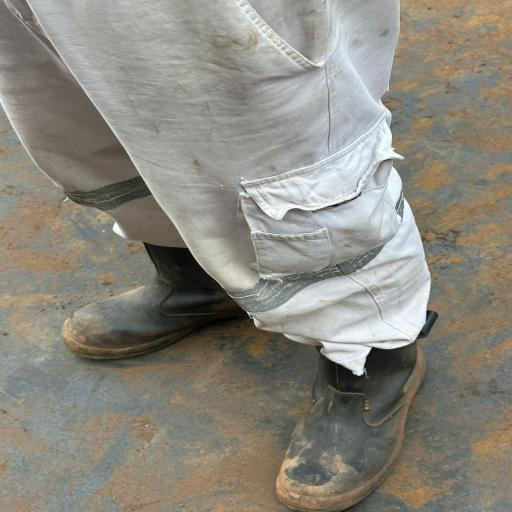safety_shoe: (266, 317, 436, 511), (46, 247, 237, 362)
